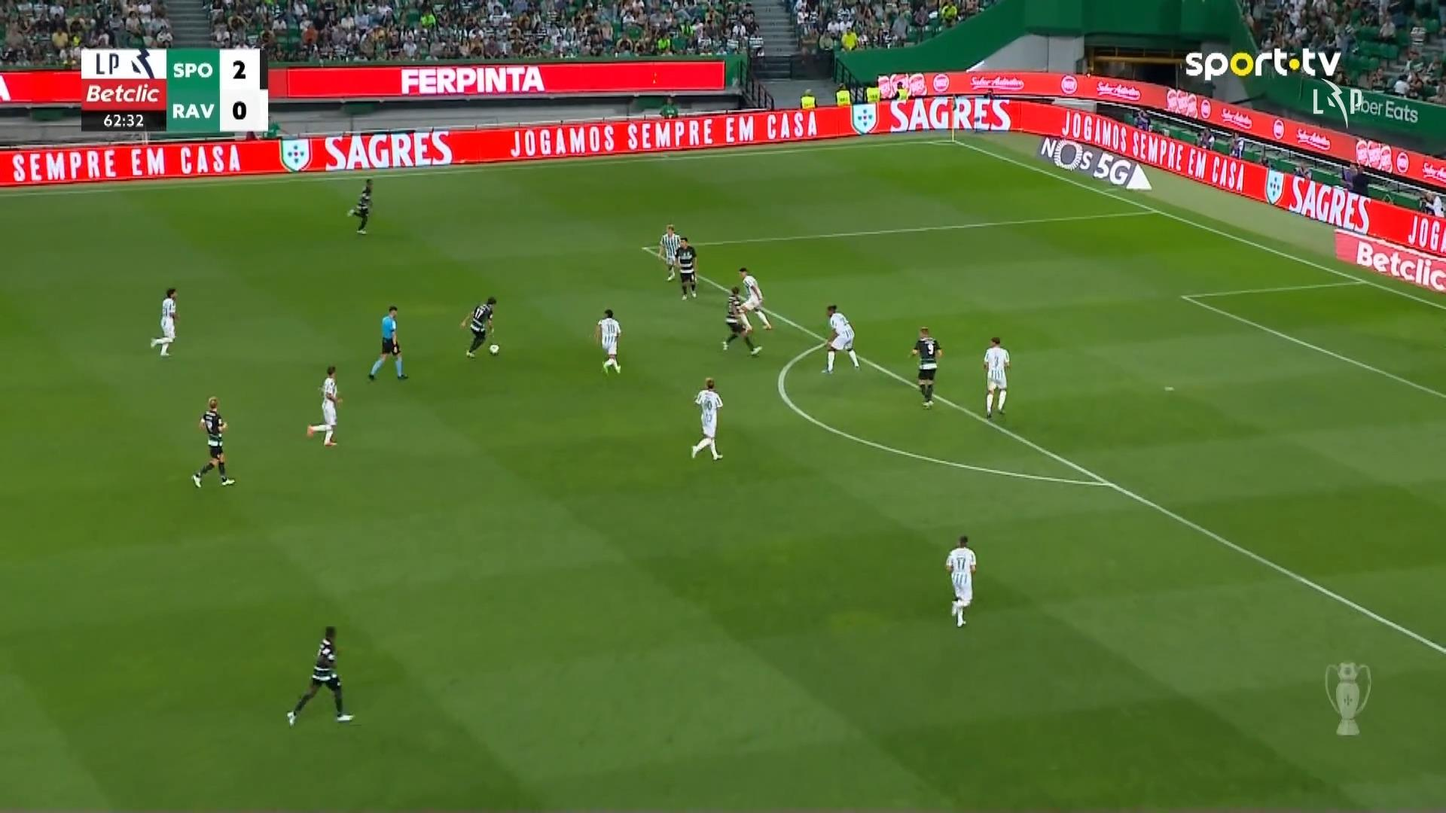ball: (488, 343, 499, 355)
player: (285, 625, 355, 726), (191, 395, 235, 488), (944, 534, 977, 627), (306, 364, 342, 446), (689, 376, 724, 460), (721, 285, 762, 355), (908, 325, 942, 409), (821, 303, 860, 373), (459, 296, 497, 358), (982, 336, 1010, 419), (737, 266, 772, 330), (150, 287, 178, 357), (595, 308, 621, 375), (346, 178, 373, 234), (674, 236, 697, 300), (658, 224, 681, 281)
referee: (367, 305, 408, 381)
